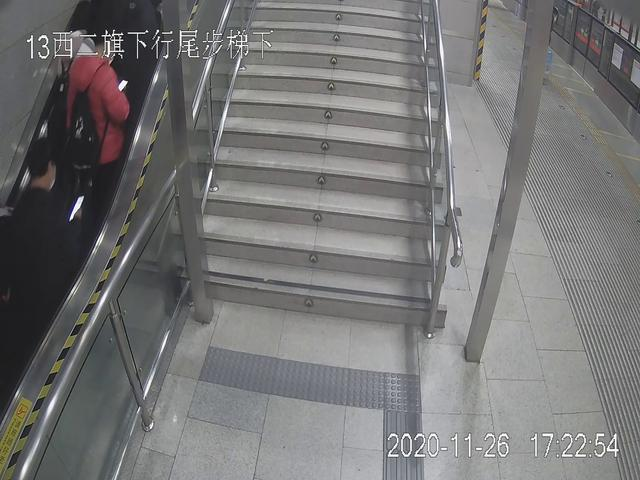person: (62, 36, 132, 198)
